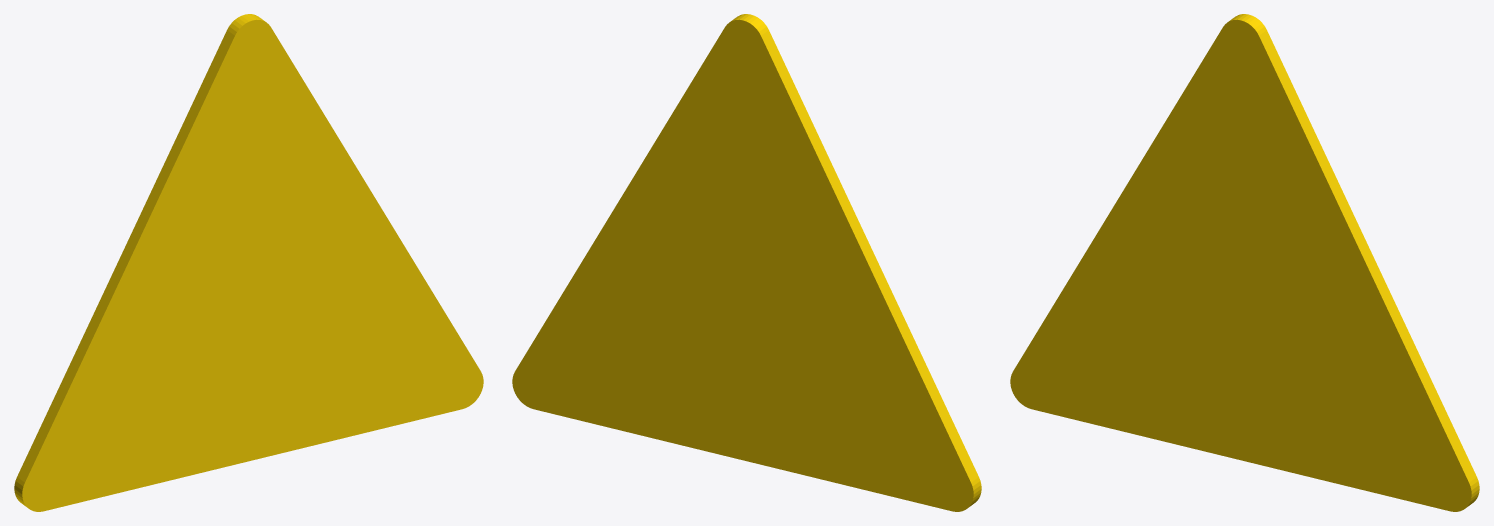
File: Proto_Sign_Caution_Triangle_01.fbx
3 renders of one model, left to right at view 1: azimuth 30°, elevation 25°; view 2: azimuth 150°, elevation 25°; view 3: azimuth 330°, elevation 25°, orthographic.
Visible parts, largest first — view 1: Proto_Sign_Caution_Triangle_01; view 2: Proto_Sign_Caution_Triangle_01; view 3: Proto_Sign_Caution_Triangle_01.
Part boxes in pixels (x1,y1,x2,y2): Proto_Sign_Caution_Triangle_01: [14, 14, 483, 511]; Proto_Sign_Caution_Triangle_01: [512, 14, 981, 511]; Proto_Sign_Caution_Triangle_01: [1010, 14, 1479, 511].
Size of the model in its own units: 0.4695 by 0.4278 by 0.014.
